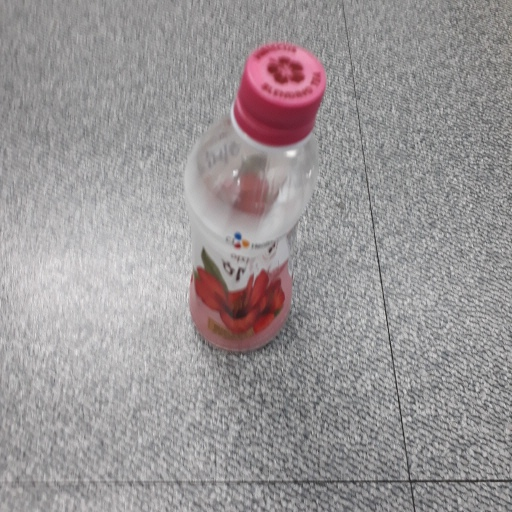Plastic_0: (177, 41, 326, 353)
